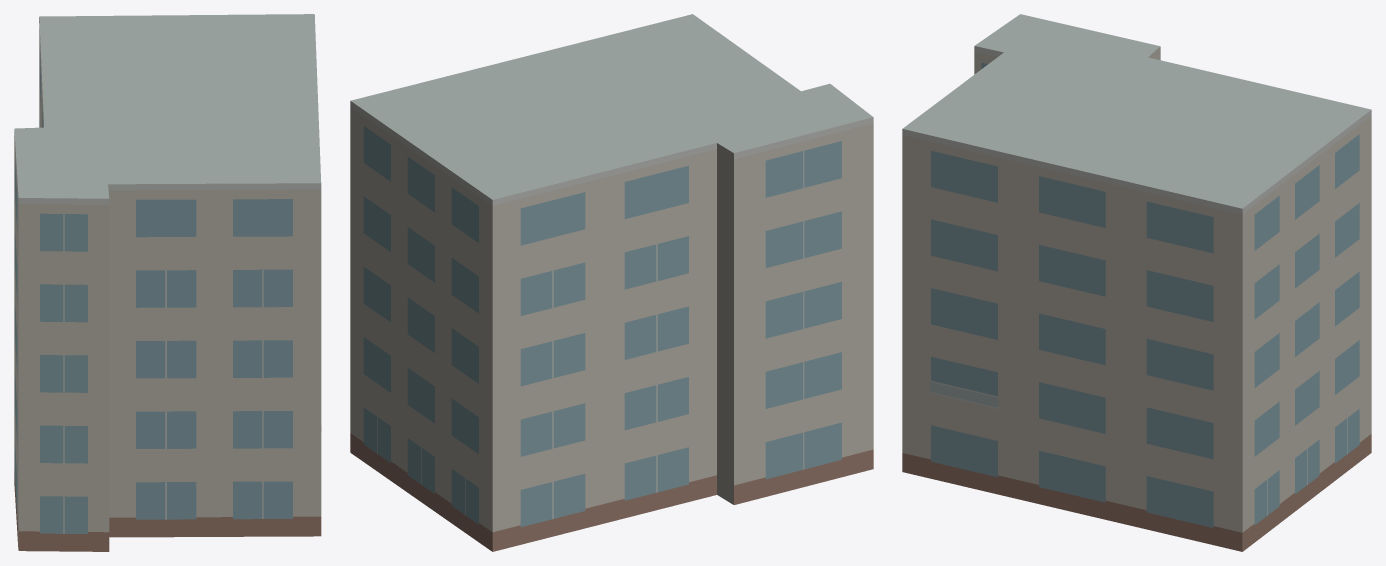
The model's file is survey-upis-32944794.glb.
3 views of the same model, side by side, from view 1: azimuth 30°, elevation 25°; view 2: azimuth 150°, elevation 25°; view 3: azimuth 270°, elevation 25° (orthographic). The views are drawn at different scales.
Visible parts, largest first — view 1: survey-upis-32944794.tmp; view 2: survey-upis-32944794.tmp; view 3: survey-upis-32944794.tmp.
Part boxes in pixels (left/top/right/bottom): survey-upis-32944794.tmp: left=14, top=14, right=321, bottom=551; survey-upis-32944794.tmp: left=350, top=14, right=873, bottom=551; survey-upis-32944794.tmp: left=902, top=14, right=1371, bottom=551.
Bounding box in the file's own units: 17.23 × 14.15 × 17.54.
